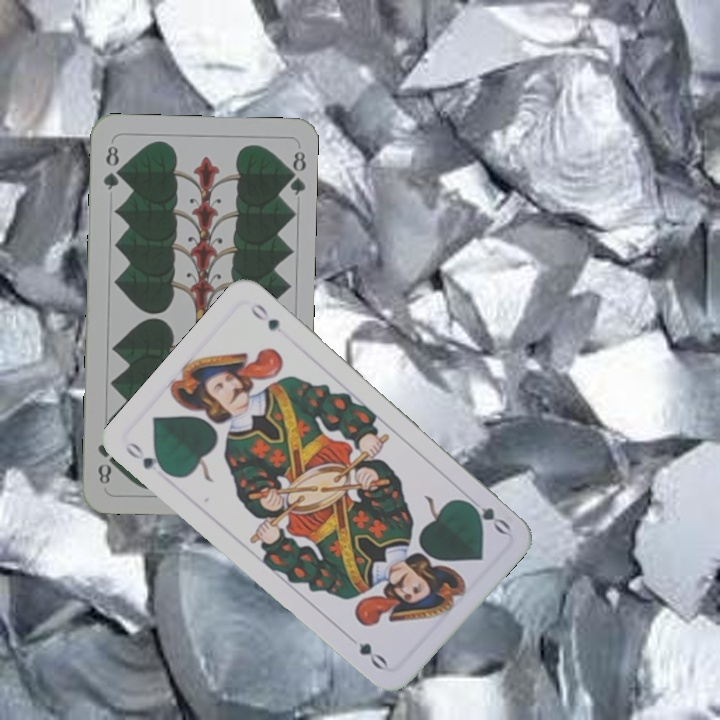G8: (99, 141, 123, 192)
GO: (459, 493, 513, 537), (121, 438, 174, 479)
